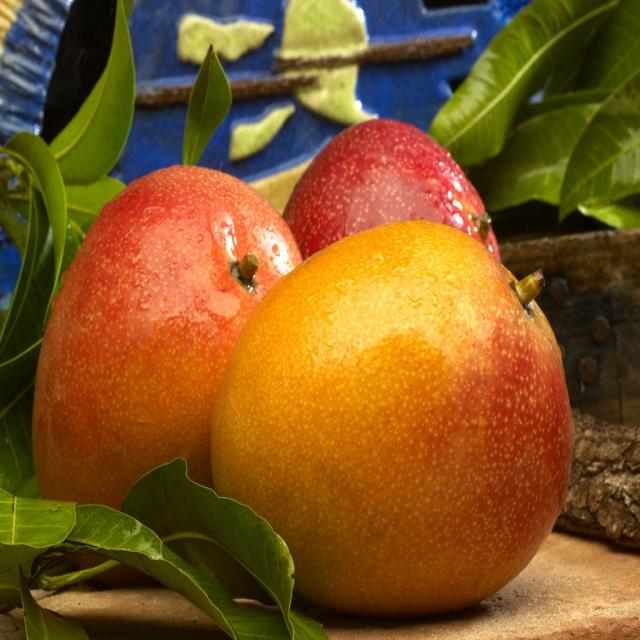mango: (214, 213, 576, 619), (34, 169, 292, 536)
